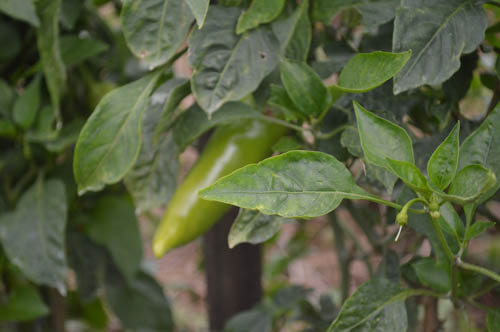ChiliPepper: (154, 112, 289, 265)
